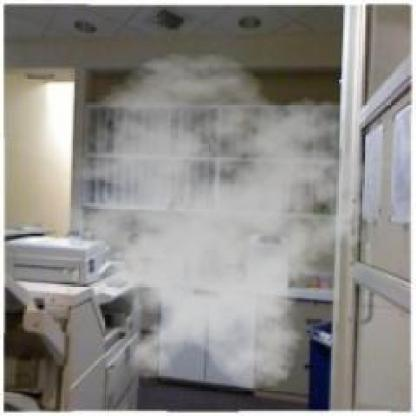Smoke: (35, 52, 388, 392)
